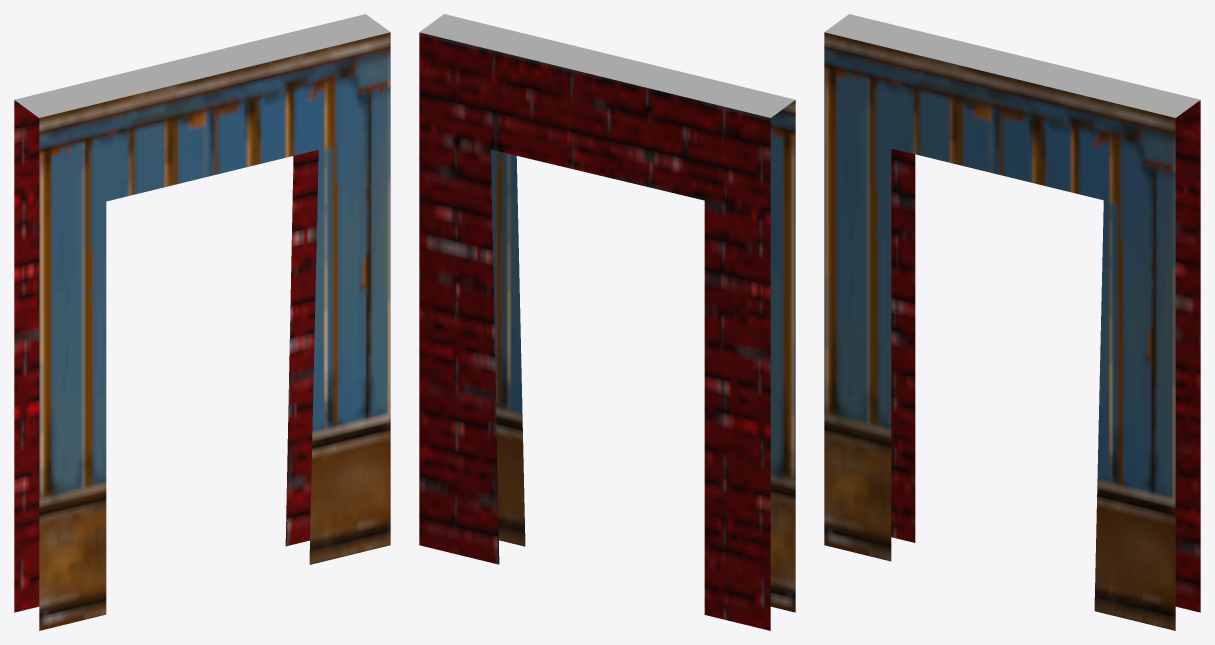
Rendered from W_I3_o [BlauesBlech-Ziegel]_1739.glb.
3 renders of one model, left to right at view 1: azimuth 30°, elevation 25°; view 2: azimuth 150°, elevation 25°; view 3: azimuth 330°, elevation 25°, orthographic.
Parts seen in each view (by area): view 1: pPlaneShape2, pPlaneShape3, pPlaneShape1; view 2: pPlaneShape3, pPlaneShape2, pPlaneShape1; view 3: pPlaneShape2, pPlaneShape3, pPlaneShape1.
Part boxes in pixels (x1,y1,x2,y2): pPlaneShape2: (39, 32, 390, 630); pPlaneShape3: (14, 100, 318, 612); pPlaneShape1: (14, 14, 390, 117); pPlaneShape3: (419, 32, 770, 630); pPlaneShape2: (491, 100, 795, 612); pPlaneShape1: (419, 14, 795, 117); pPlaneShape2: (824, 32, 1175, 630); pPlaneShape3: (891, 100, 1200, 612); pPlaneShape1: (824, 14, 1200, 117).
Size of the model in its own units: 0.25 by 0.3486 by 0.0308.
Materials: 3 (2 with a texture image).
